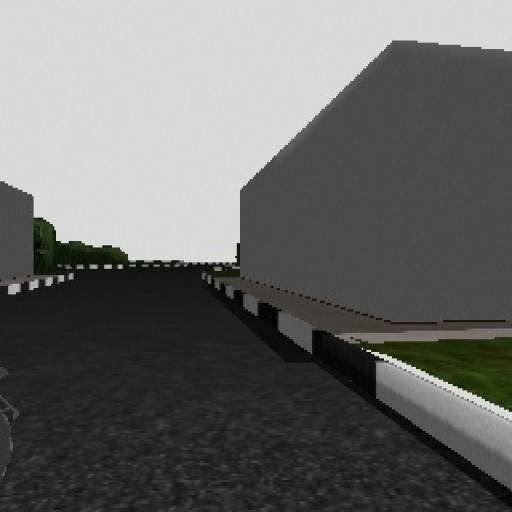huskya200: (0, 350, 23, 506)
